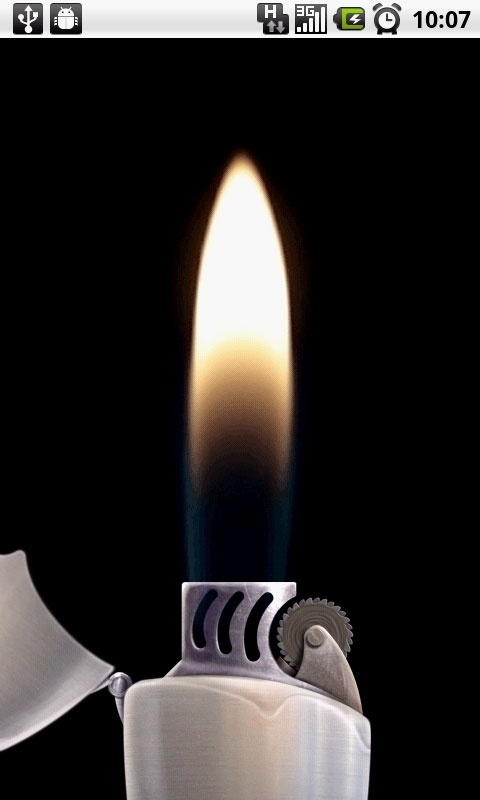fire: (186, 143, 297, 540)
